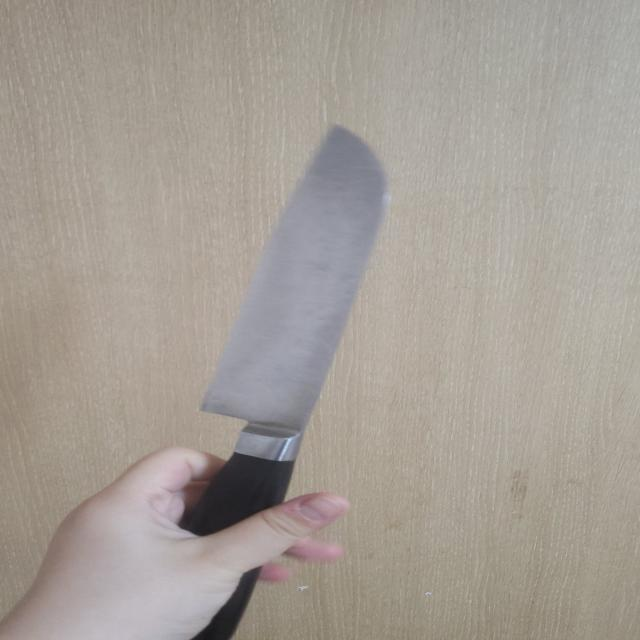knife: (145, 124, 387, 640)
